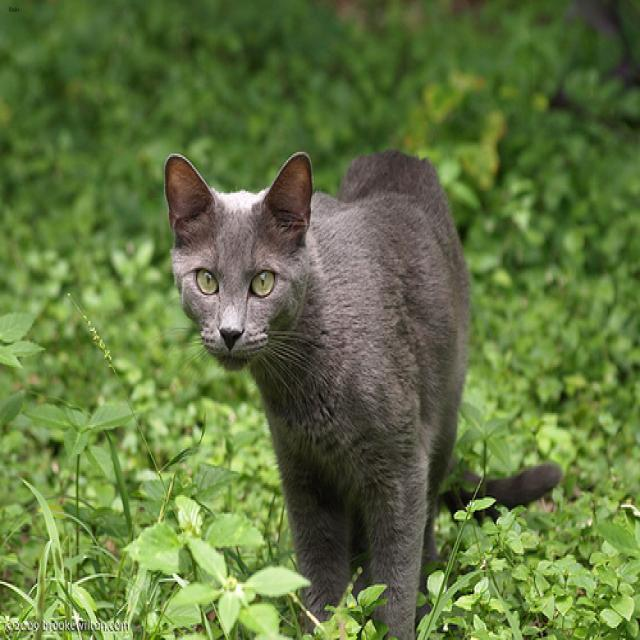Russian_Blue: (163, 150, 311, 369)
